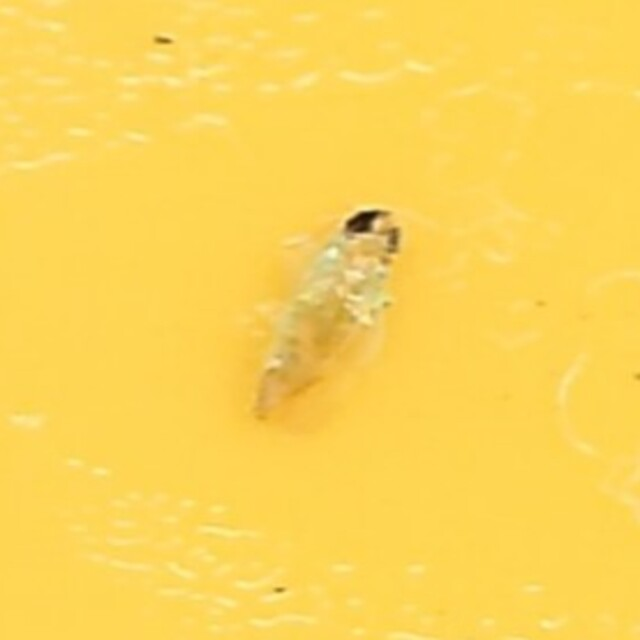Hemiptera: (231, 201, 409, 439)
